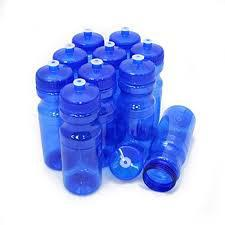Plastic: (58, 78, 103, 197)
